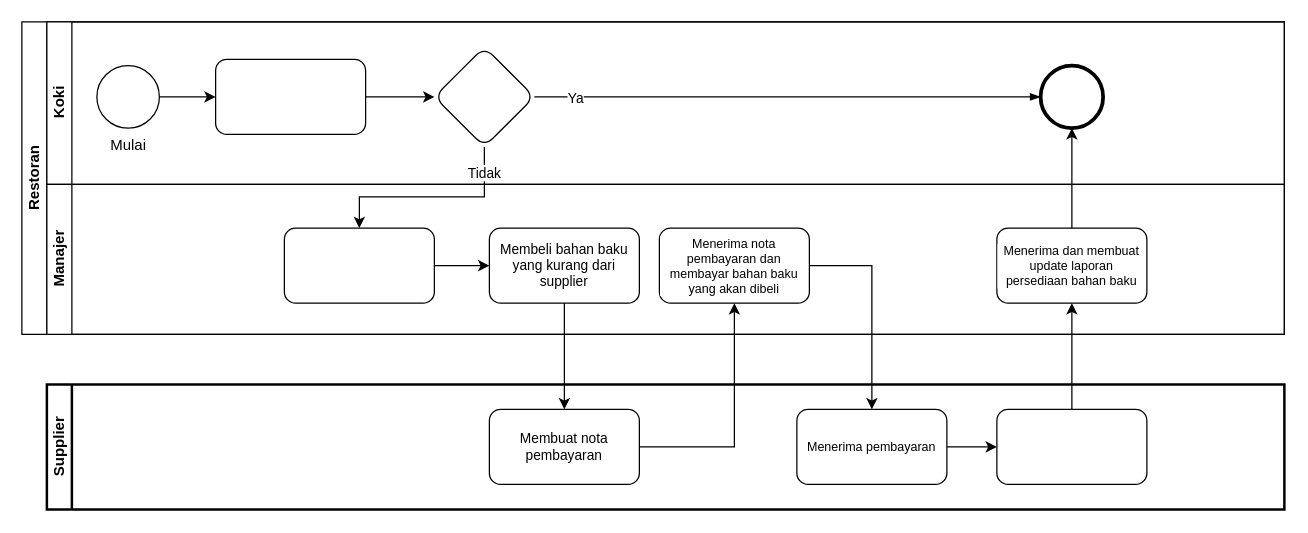
This 1308x533 diagram has some shape labels left out. Each missing label, with the centre of its shape:
"Menerima laporan kekurangan bahan baku" goes at [358,265].
"Mengecek dan membuat laporan persediaan bahan baku" goes at [290,96].
"Mengirim bahan baku ke restoran" goes at [1071,446].
"Selesai" goes at [1071,96].
"Stok cukup?" goes at [483,96].
